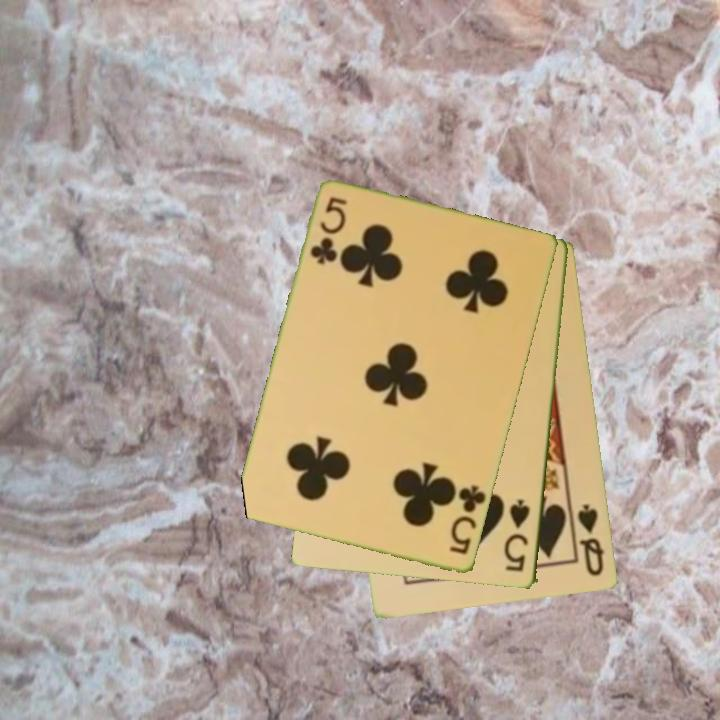5c: (446, 482, 489, 558), (307, 193, 350, 268)
5s: (502, 496, 534, 575)
Qs: (574, 501, 608, 579)
